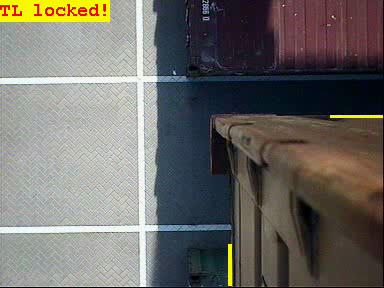groundmarker_2: (22, 117, 120, 245)
